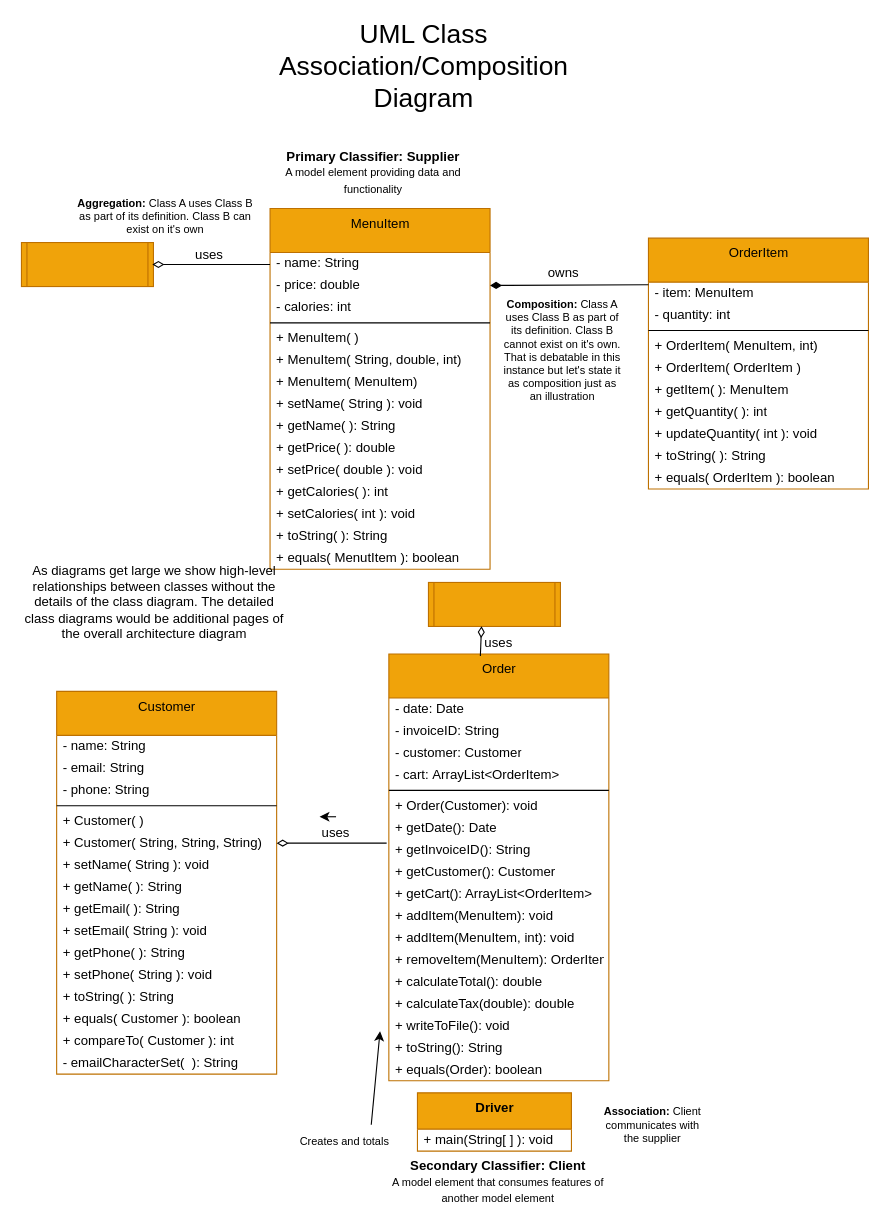
Some shapes in this 888 by 1224 pixel diagram are drawn without their labels. The shapes that lost their labels are listed below. From the top down, each one's centre as x and y in pixels, then its label:
the point at 86,264: String
the point at 493,603: Date
